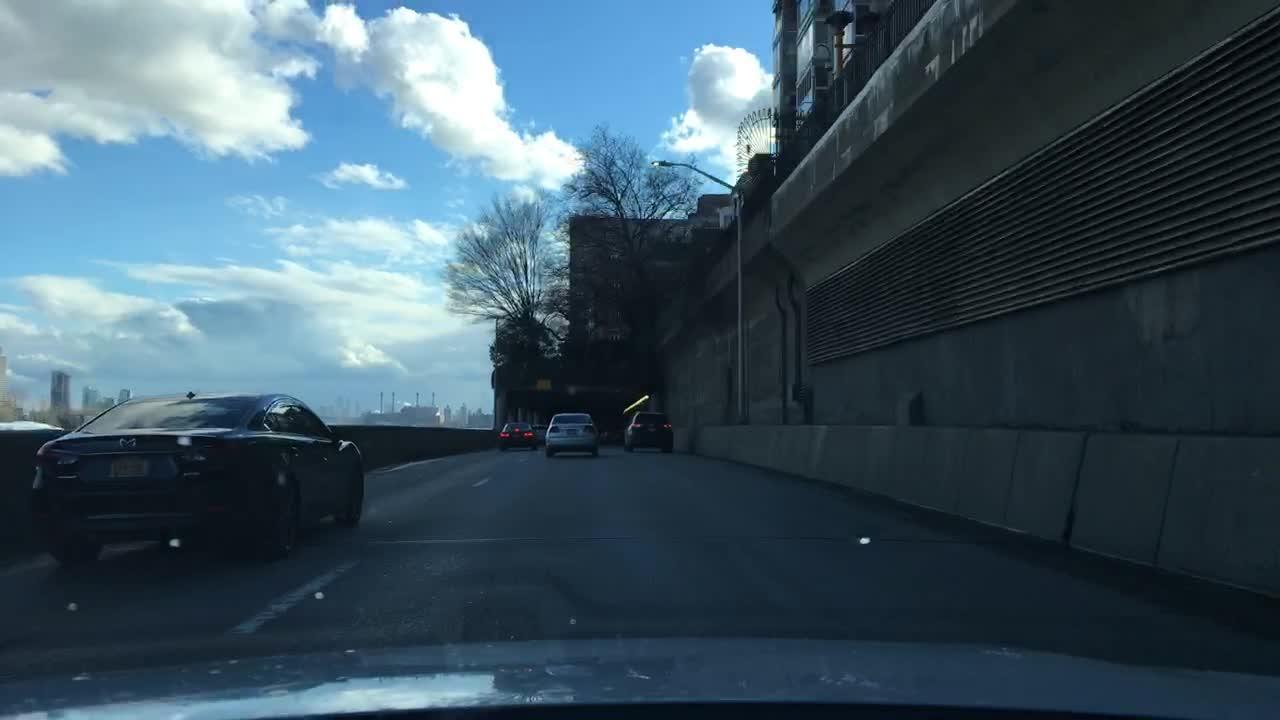Mazda: (117, 432, 144, 455)
